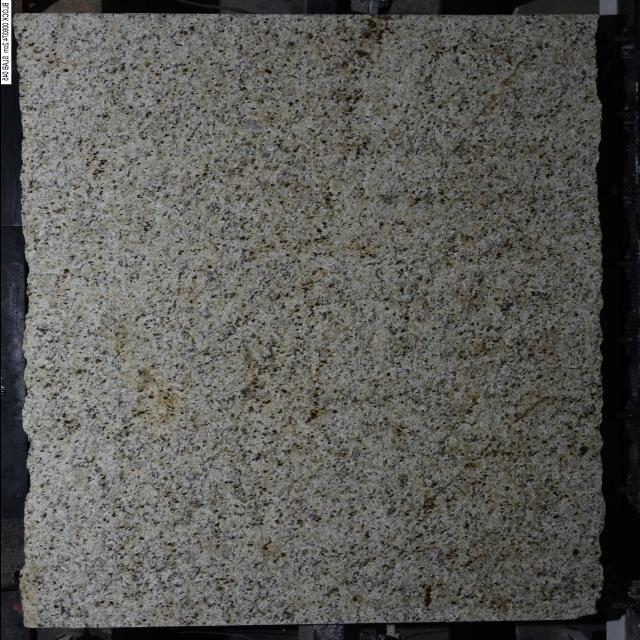chapa: (15, 14, 604, 626)
